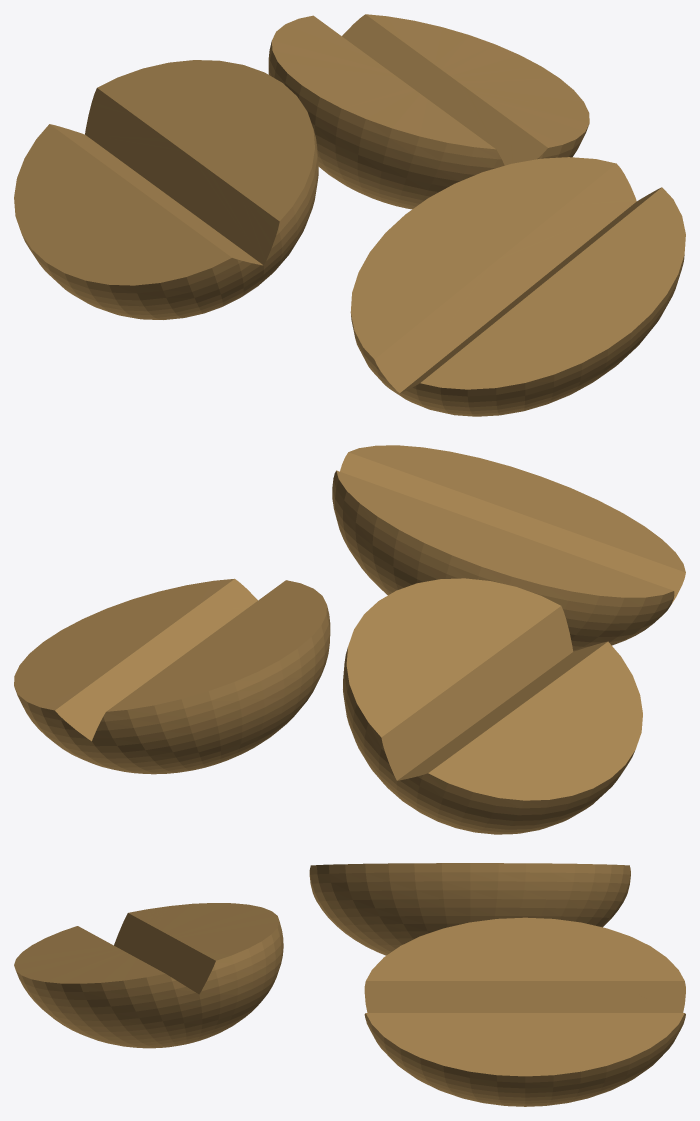
Rendered from kafija.glb.
3 views of the same model, one above another, from view 1: azimuth 30°, elevation 25°; view 2: azimuth 150°, elevation 25°; view 3: azimuth 270°, elevation 25° (orthographic). The views are drawn at different scales.
Visible parts, largest first — view 1: obj_0; view 2: obj_0; view 3: obj_0.
Part boxes in pixels (x1,y1,x2,y2): obj_0: (14, 14, 685, 416); obj_0: (14, 445, 685, 834); obj_0: (14, 863, 685, 1106).
Size of the model in its own units: 6.84 by 2.17 by 8.36.
